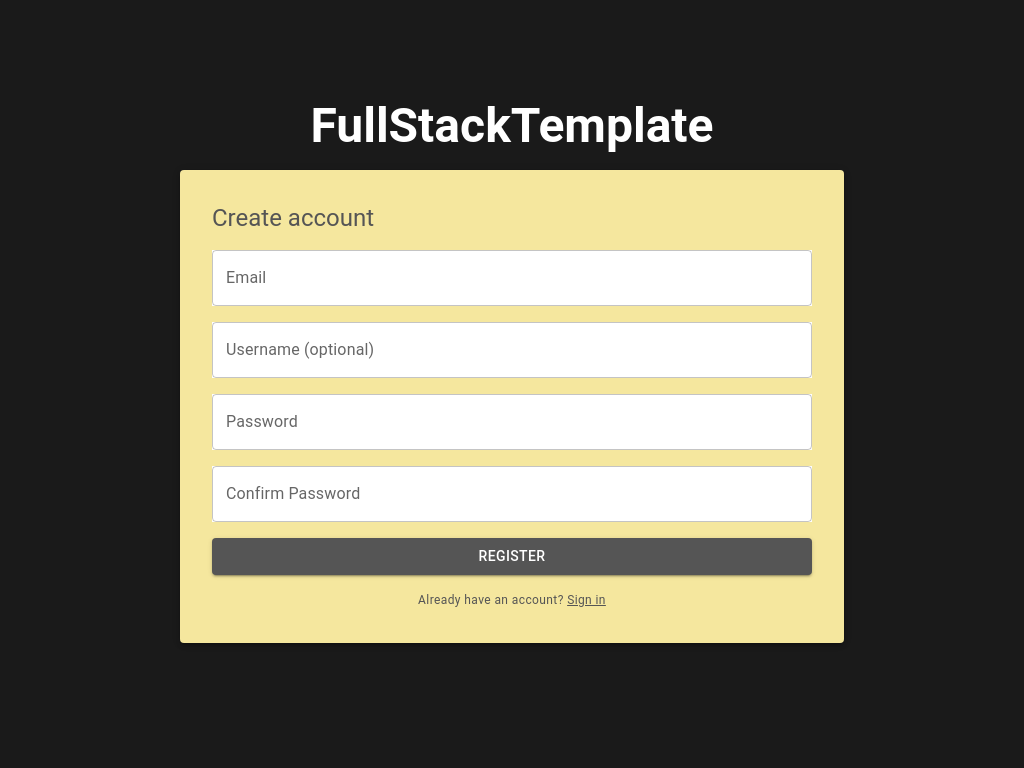
real session route lifecycle › register reports a current request’s storage failure
Step 1. Type "reader@example.com" into the field labelled "Email" → (512, 278), box x1=212 y1=250 x2=812 y2=306
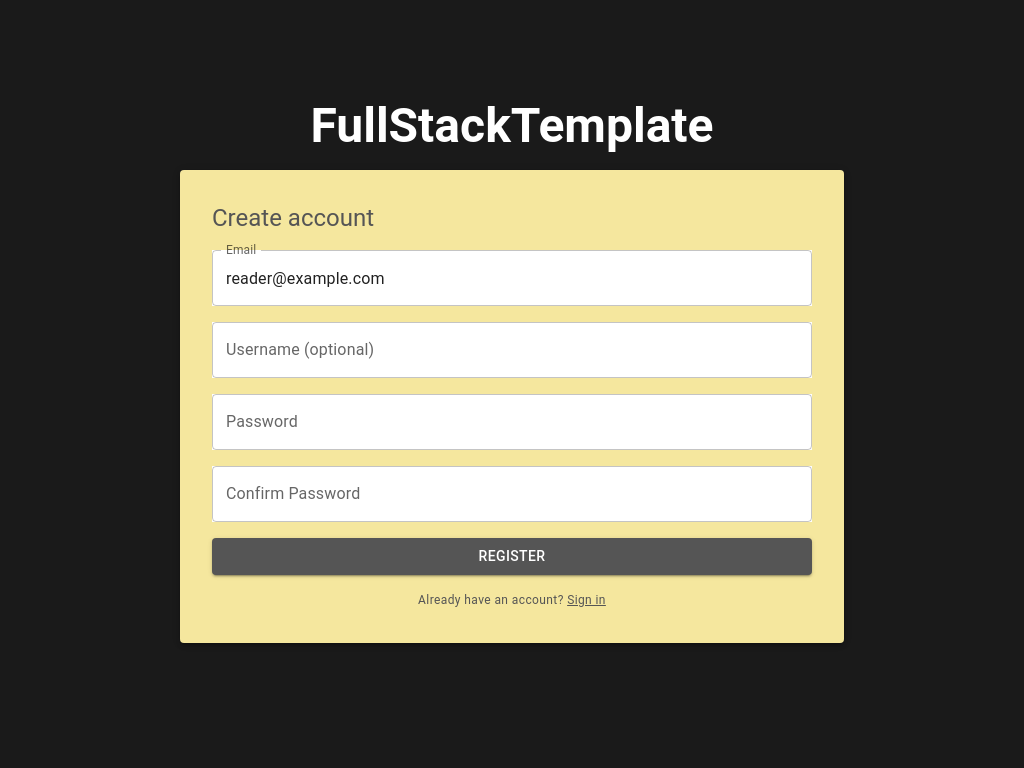
Step 2. Type "password123" into the password field labelled "Password" → (512, 422), box x1=212 y1=394 x2=812 y2=450
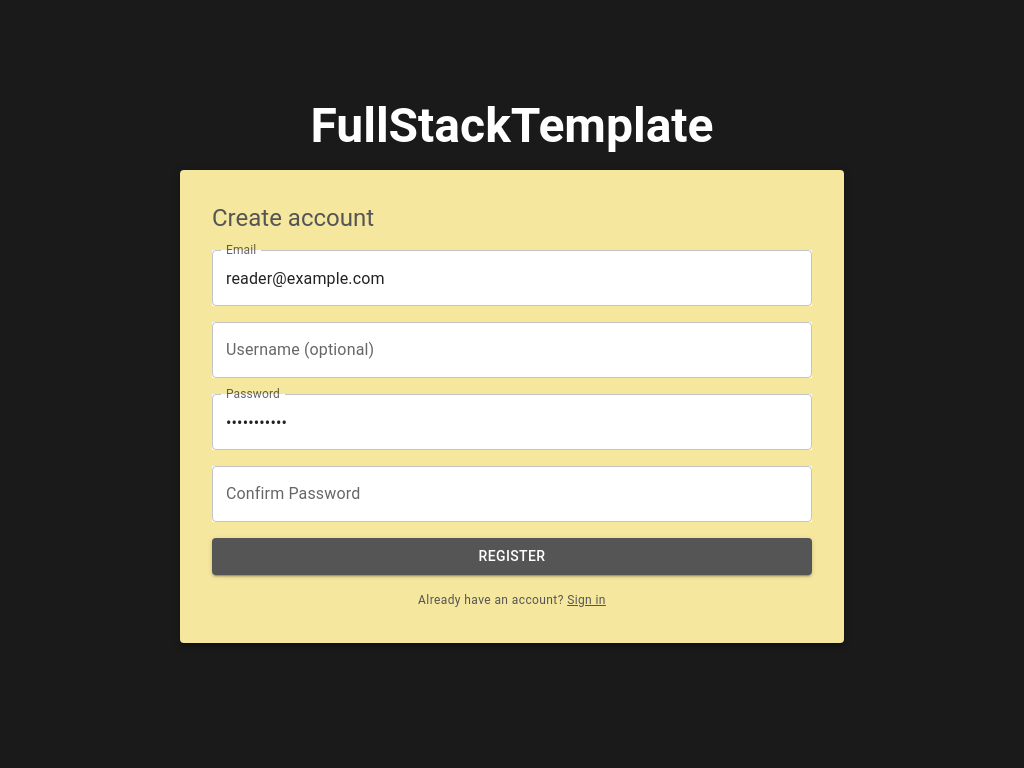
Step 3. Type "password123" into the password field labelled "Confirm Password" → (512, 494), box x1=212 y1=466 x2=812 y2=522
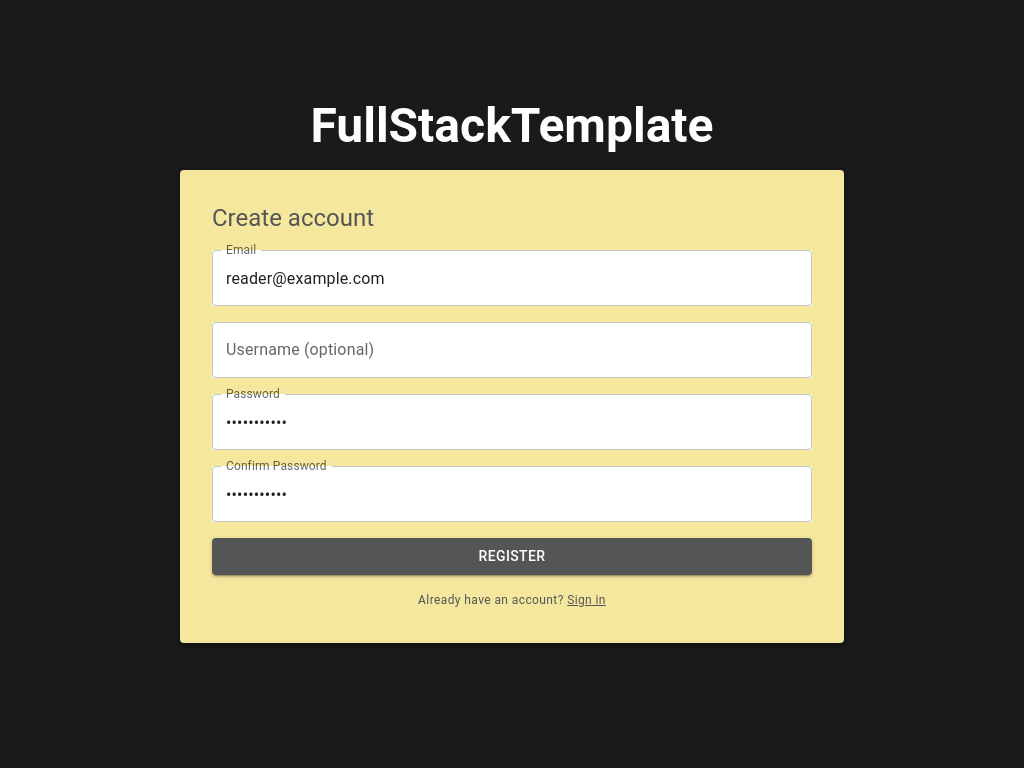
Step 4. Submit the form, box x1=212 y1=250 x2=812 y2=611
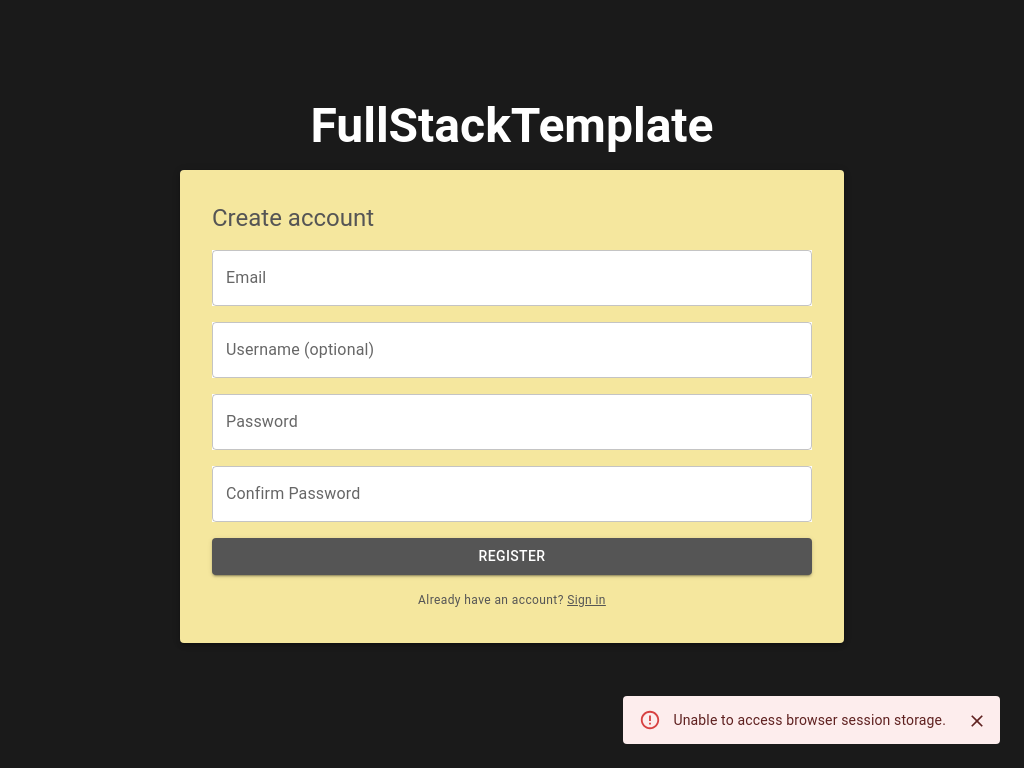
Now the message reads "Unable to access browser session storage.", box x1=674 y1=712 x2=946 y2=728
